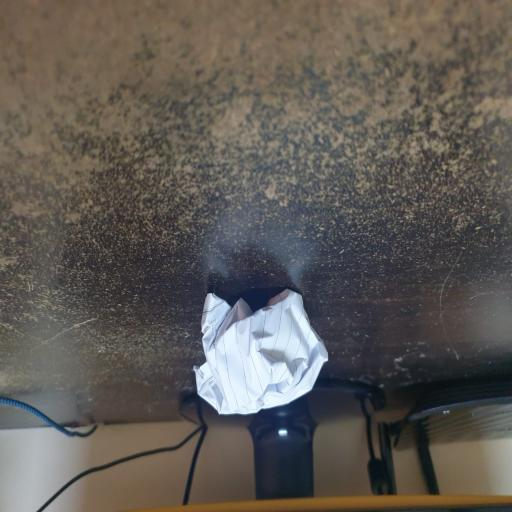Kertas: (196, 285, 329, 412)
